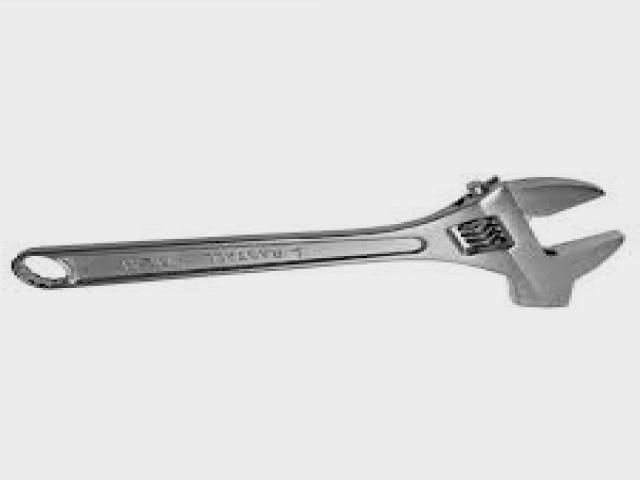Adjustable spanner: (11, 179, 624, 307)
